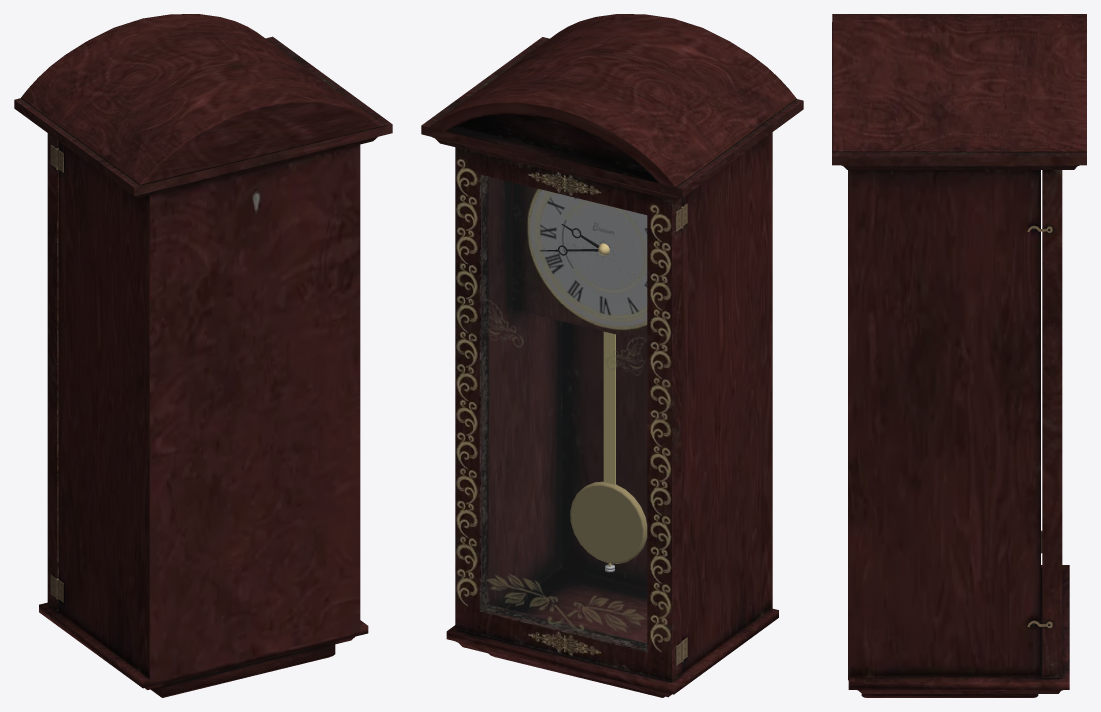
The model's file is wall_clock_old.glb.
3 renders of one model, left to right at view 1: azimuth 30°, elevation 25°; view 2: azimuth 150°, elevation 25°; view 3: azimuth 270°, elevation 25°, orthographic. The views are drawn at different scales.
Visible parts, largest first — view 1: Plane.006, Plane.005, Plane.002, Plane, Plane.003, Plane.004; view 2: Plane.006, Plane.001, Plane, Plane.005, Plane.013_Plane.014, Plane.003, Plane.002, Circle, Plane.009; view 3: Plane.006, Plane.005, Plane, Plane.003, Plane.002, Plane.004.
Boxes of the visible parts, left/top/right/bottom form: Plane.006: left=59, top=141, right=360, bottom=681; Plane.005: left=20, top=14, right=384, bottom=185; Plane.002: left=14, top=36, right=392, bottom=198; Plane: left=47, top=133, right=58, bottom=611; Plane.003: left=39, top=602, right=368, bottom=689; Plane.004: left=150, top=644, right=335, bottom=697; Plane.006: left=489, top=132, right=772, bottom=674; Plane.001: left=481, top=175, right=646, bottom=650; Plane: left=455, top=147, right=681, bottom=681; Plane.005: left=429, top=14, right=796, bottom=187; Plane.013_Plane.014: left=512, top=182, right=647, bottom=341; Plane.003: left=446, top=568, right=778, bottom=697; Plane.002: left=421, top=37, right=803, bottom=200; Circle: left=570, top=481, right=647, bottom=563; Plane.009: left=603, top=331, right=615, bottom=566; Plane.006: left=848, top=170, right=1040, bottom=680; Plane.005: left=832, top=14, right=1086, bottom=152; Plane: left=1042, top=170, right=1062, bottom=677; Plane.003: left=848, top=565, right=1069, bottom=693; Plane.002: left=832, top=22, right=1086, bottom=169; Plane.004: left=861, top=694, right=1038, bottom=697.
Size of the model in its own units: 0.9136 by 2 by 0.7339.
17 materials, 13 textured.
